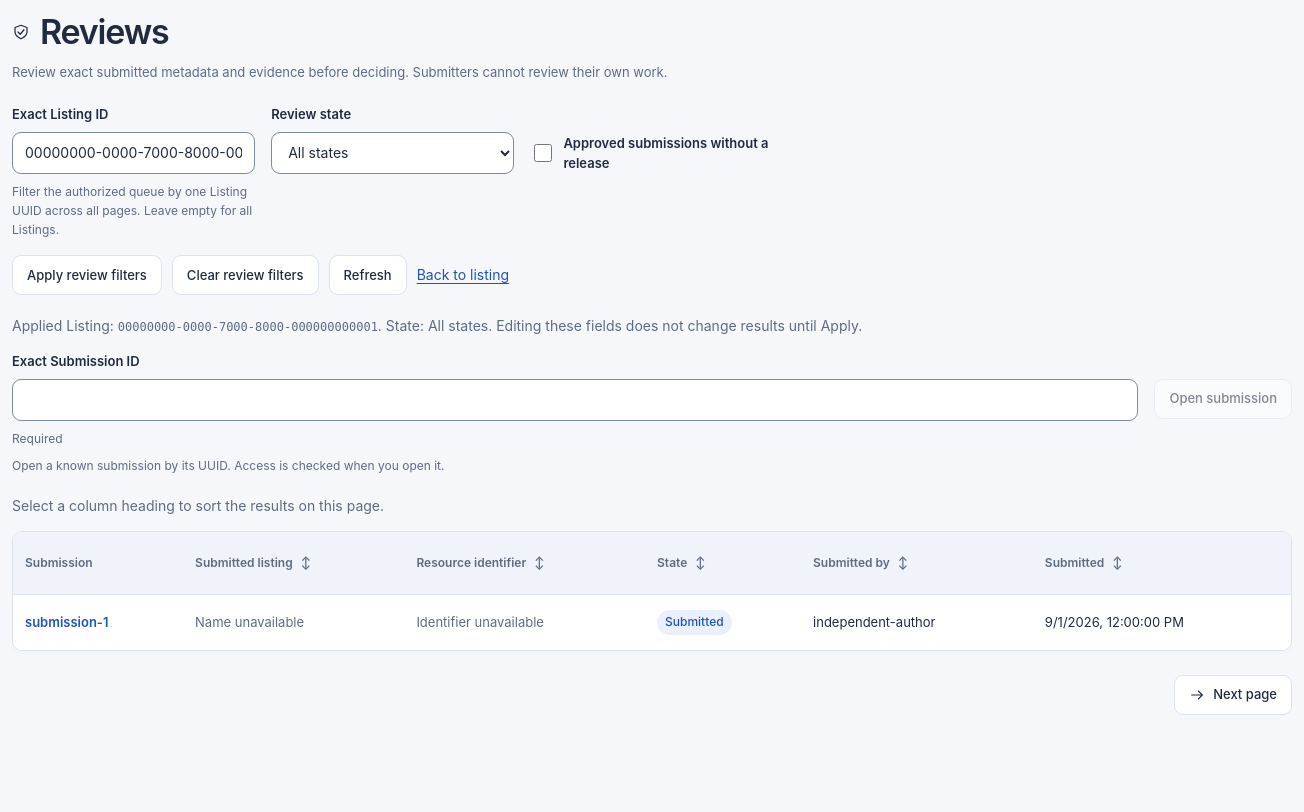
Test case: filters and pages the review queue (listing history=true)
Expected: the link "submission-1" is shown, [25,614,108,630]
Click the button "Next page". click: (1233, 695)
box: [1174,675,1292,715]
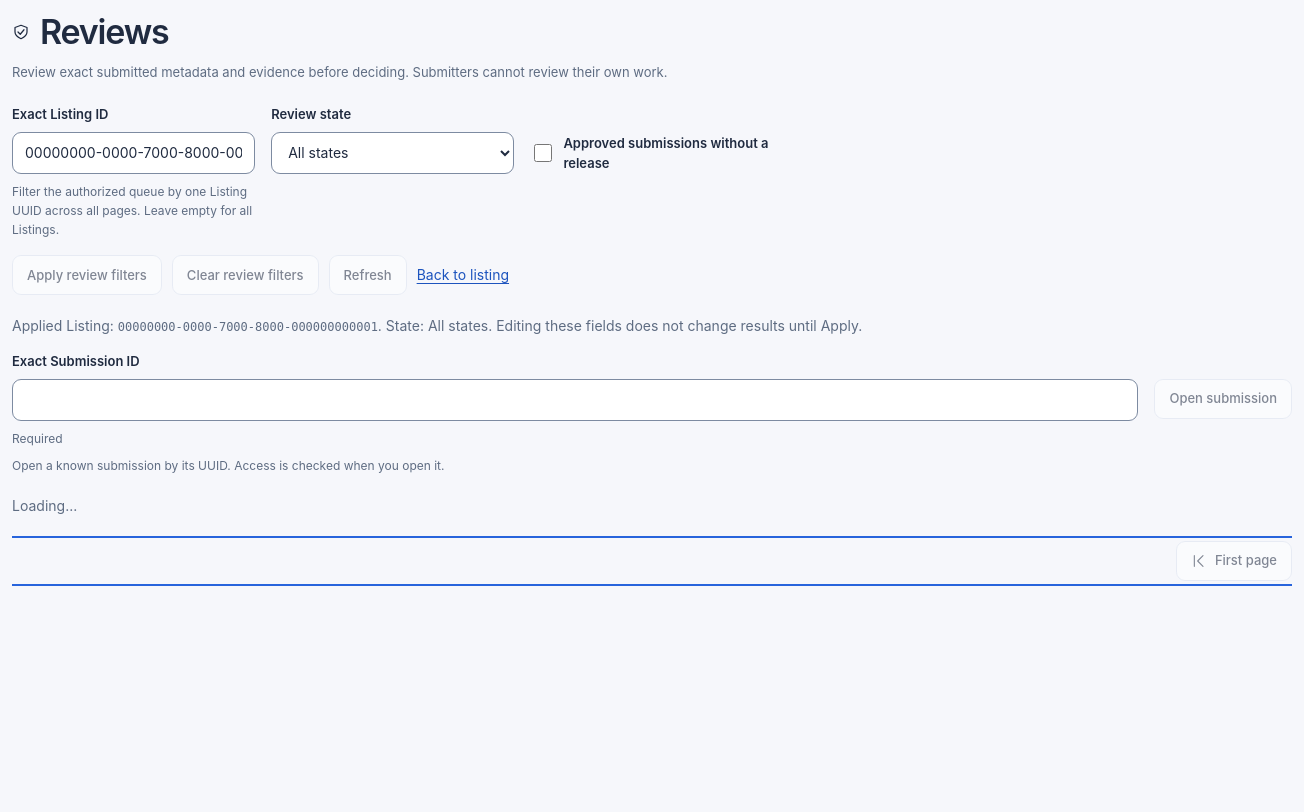
Select "Approved" in the dropdown labelled "Review state". click: (393, 153)
box: [271,132,514,174]
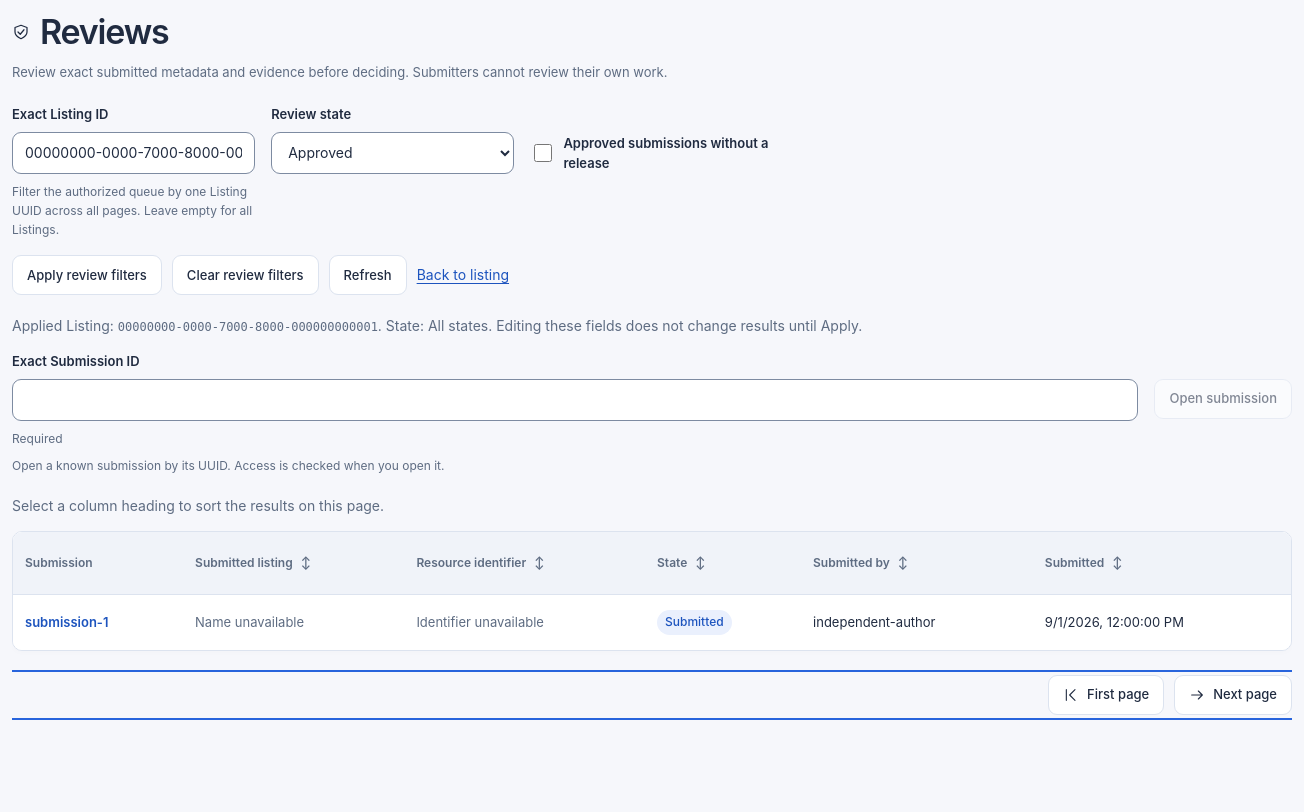
Click the button "Apply review filters". click: (87, 275)
box: [12,255,162,295]
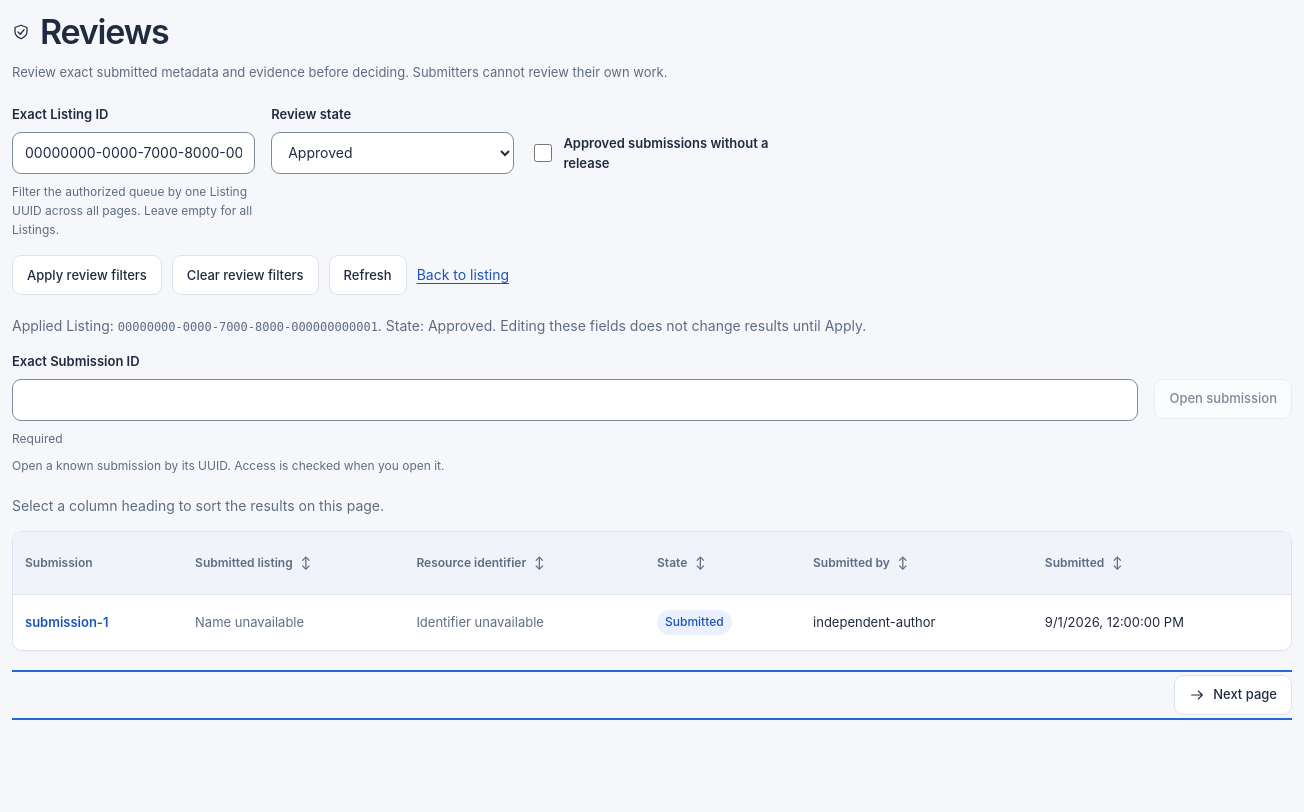
Click the button "Refresh". click: (368, 275)
box: [329,255,407,295]
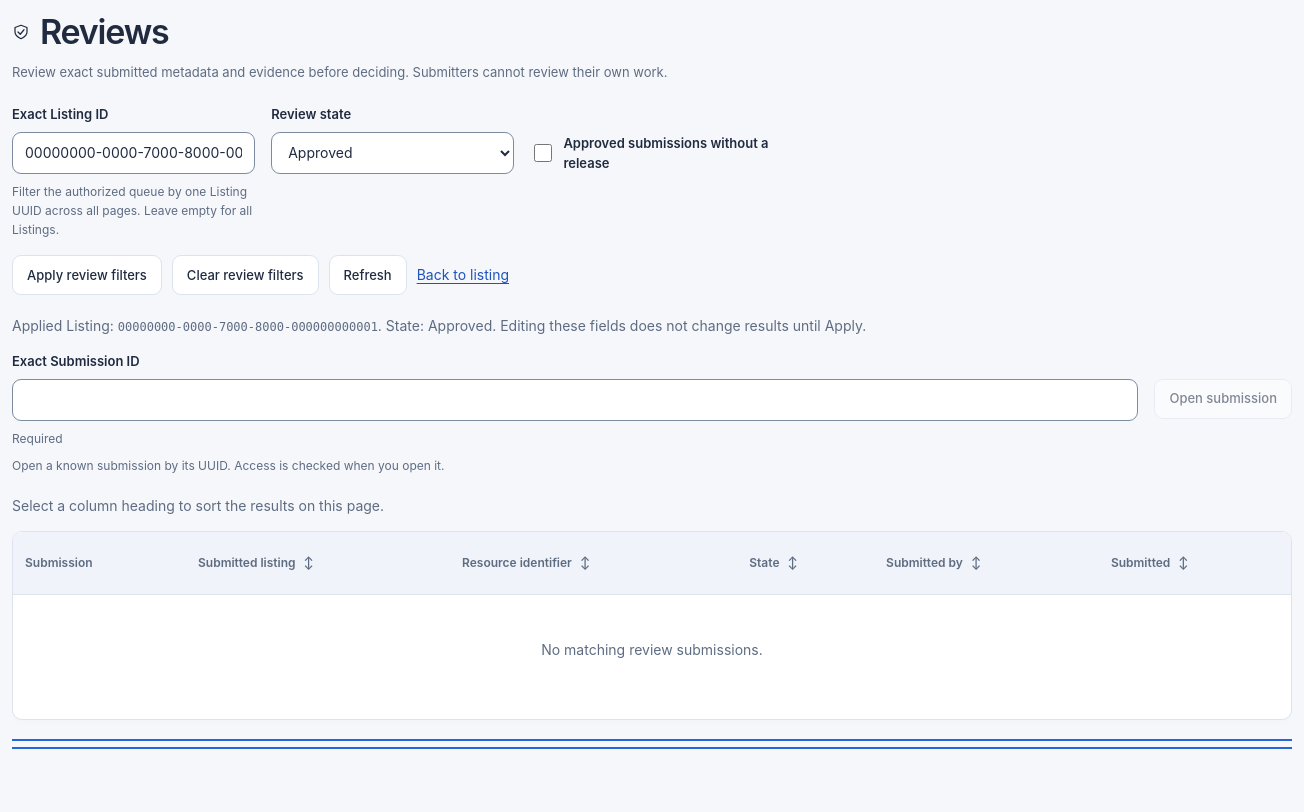
Expected: the text "No matching review submissions." is shown, [541,641,763,658]
